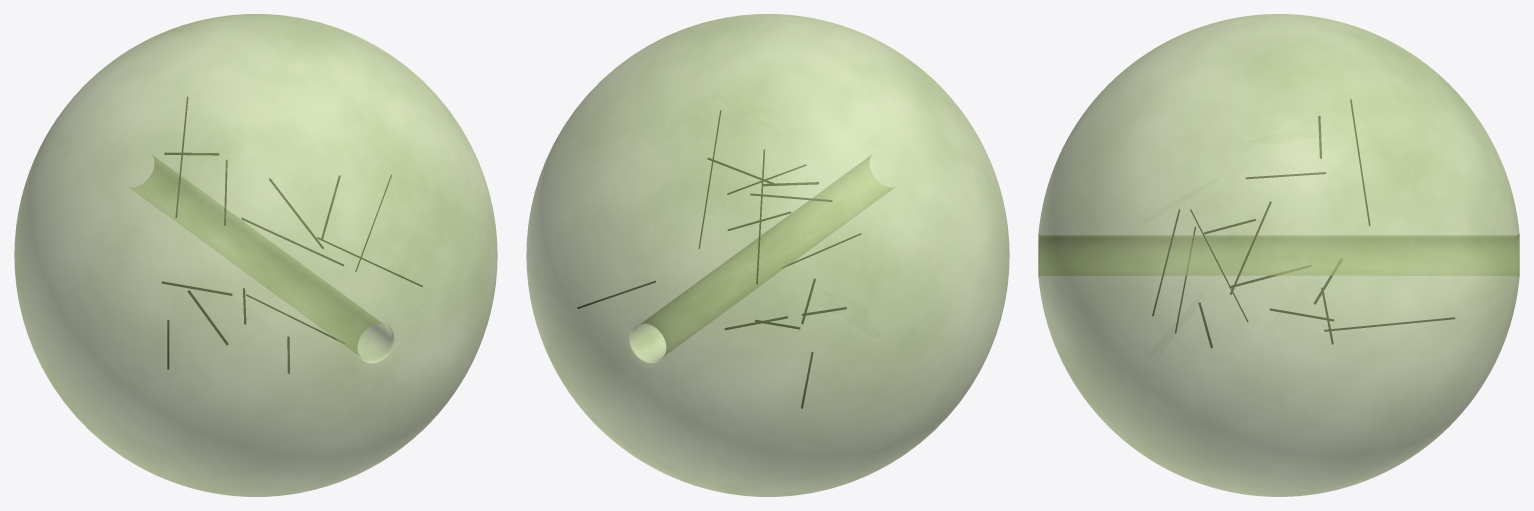
Rendered from prehnite-12mm.glb.
3 renders of one model, left to right at view 1: azimuth 30°, elevation 25°; view 2: azimuth 150°, elevation 25°; view 3: azimuth 270°, elevation 25°, orthographic.
Visible parts, largest first — view 1: prehnite.001, prehnite_WEB_needles_14; view 2: prehnite.001, prehnite_WEB_needles_14; view 3: prehnite.001, prehnite_WEB_needles_14.
Boxes of the visible parts, x1,y1,x2,y2 form: prehnite.001: [14, 14, 497, 496]; prehnite_WEB_needles_14: [162, 97, 422, 373]; prehnite.001: [526, 14, 1009, 496]; prehnite_WEB_needles_14: [577, 110, 860, 408]; prehnite.001: [1038, 14, 1519, 496]; prehnite_WEB_needles_14: [1152, 99, 1454, 347].
Size of the model in its own units: 0.012 by 0.012 by 0.012.
3 materials, 1 textured.
